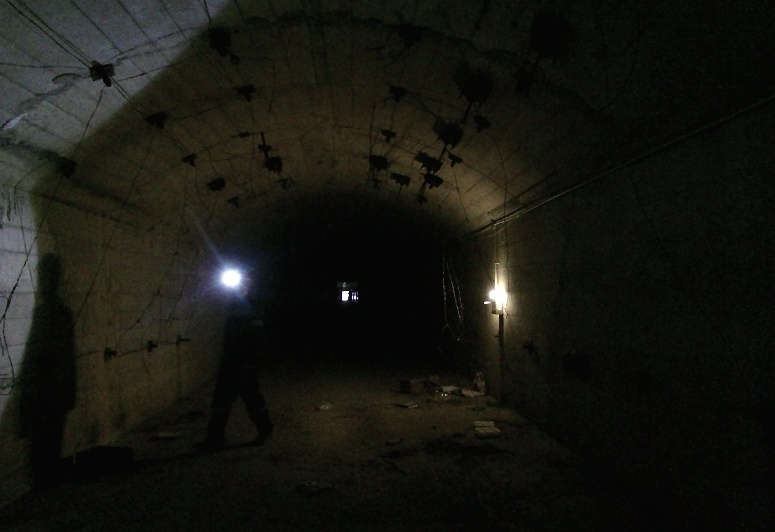person: (207, 273, 302, 447)
